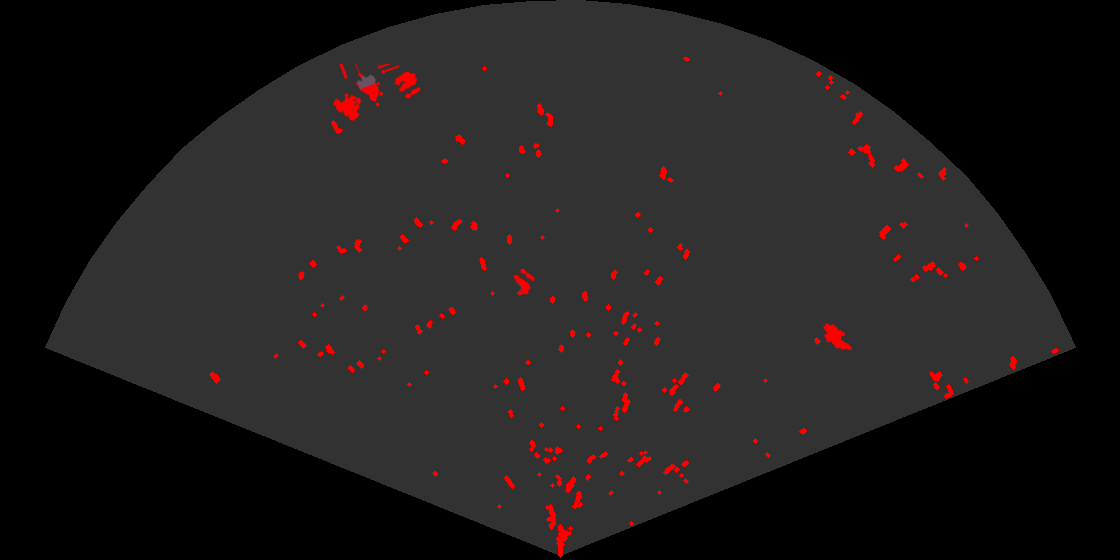AUV: (822, 321, 854, 352)
ball: (393, 70, 422, 100), (512, 267, 536, 297)
cage: (331, 64, 399, 123)
